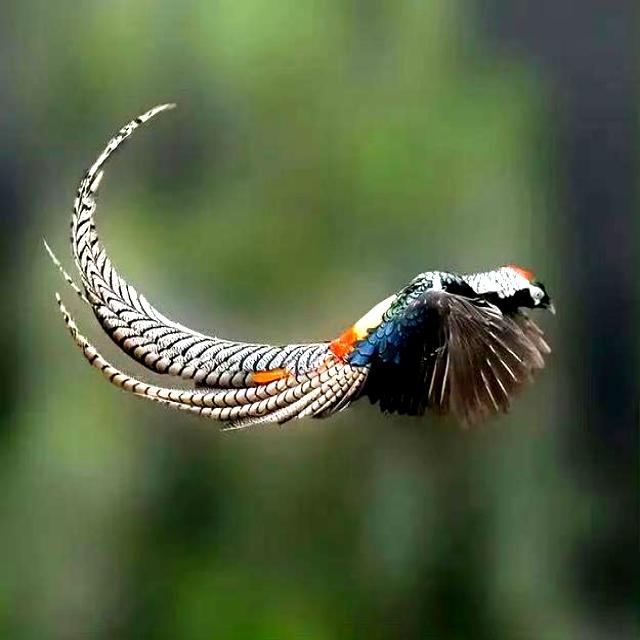Chrysolophus amherstiae: (60, 105, 367, 428)
